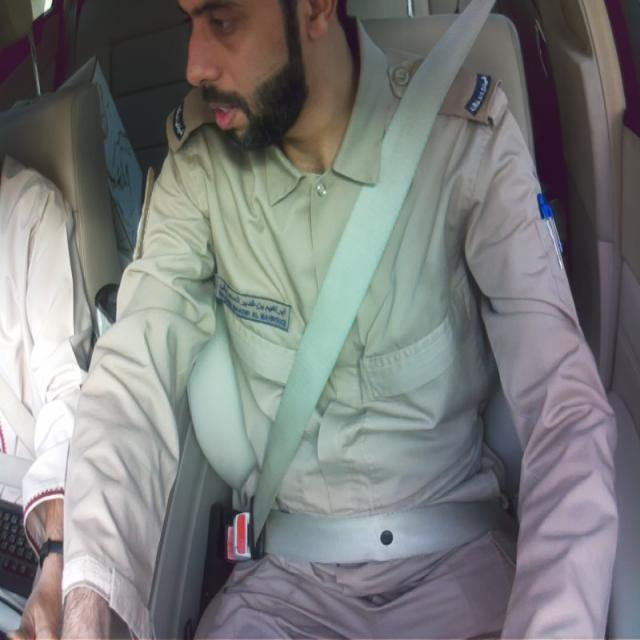seatbelt: (252, 0, 509, 563)
